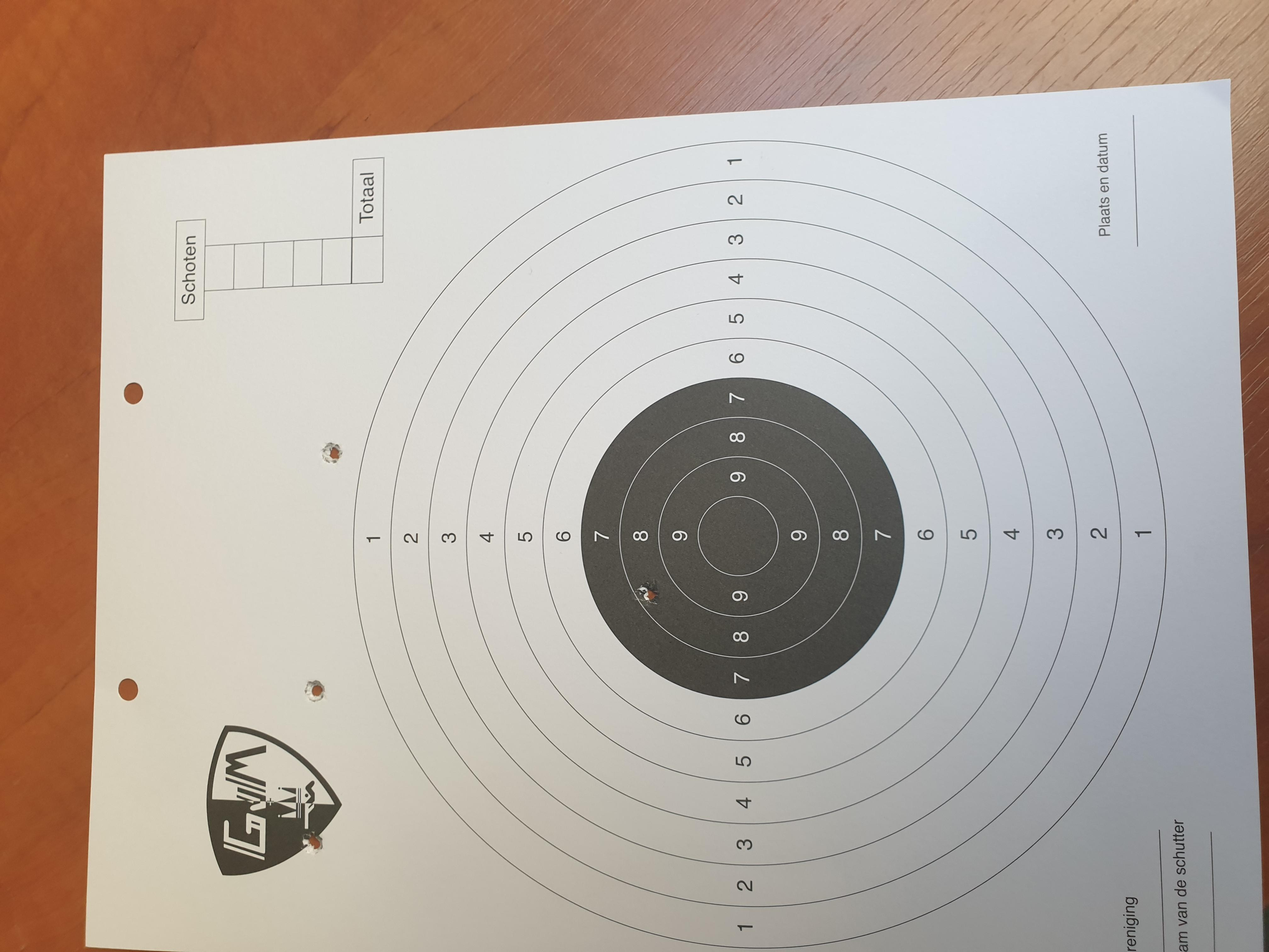hole: (460, 476, 496, 494), (648, 240, 682, 257), (331, 228, 363, 246), (129, 225, 159, 243)
